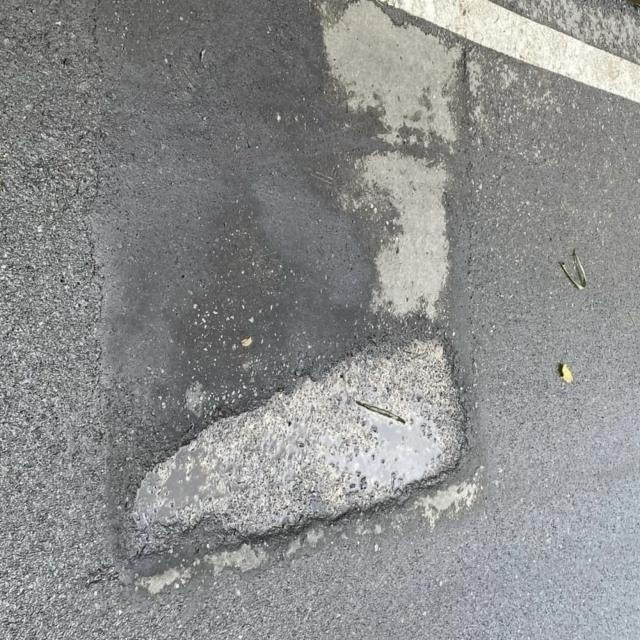pothole: (61, 270, 542, 587)
